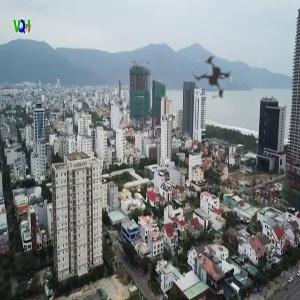drone: (152, 19, 273, 140)
